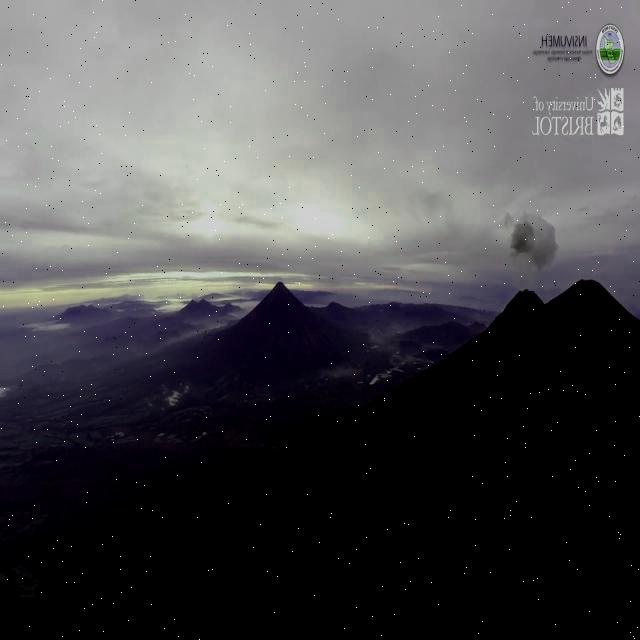Plume: (495, 206, 561, 274)
Summit: (468, 286, 594, 350)
